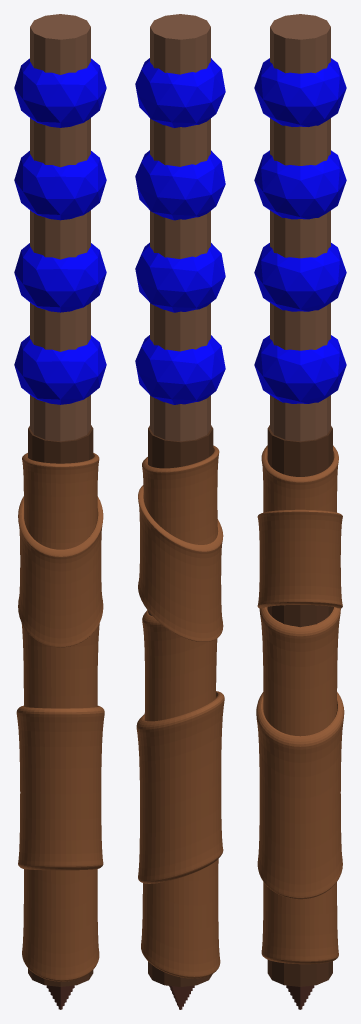
The model's file is Wand 334.glb.
3 renders of one model, left to right at view 1: azimuth 90°, elevation 25°; view 2: azimuth 150°, elevation 25°; view 3: azimuth 270°, elevation 25°, orthographic.
Visible parts, largest first — view 1: GeneratedWand; view 2: GeneratedWand; view 3: GeneratedWand.
Part boxes in pixels (x1=…): GeneratedWand: x1=14, y1=14, x2=106, y2=1009; GeneratedWand: x1=135, y1=14, x2=225, y2=1009; GeneratedWand: x1=254, y1=14, x2=346, y2=1009.
Bounding box in the file's own units: 0.0408 × 0.502 × 0.0428.
